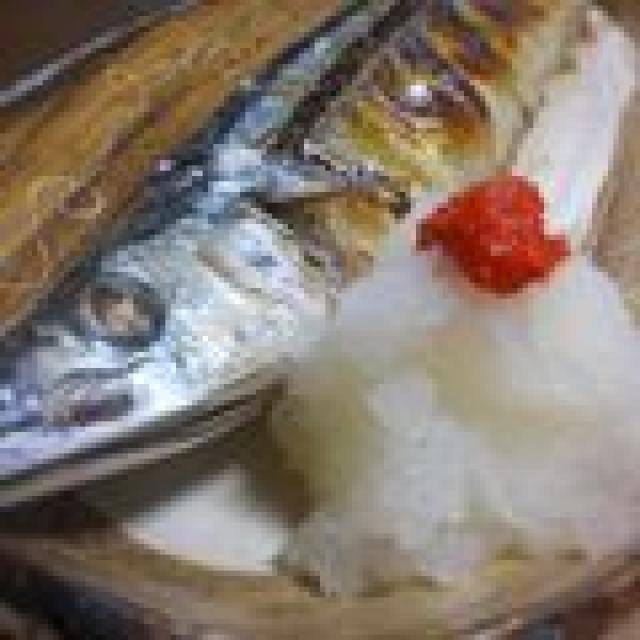熟制海鲜: (0, 0, 592, 517)
